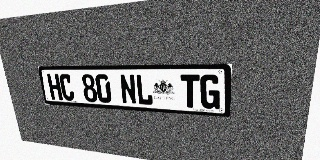0: (95, 74, 112, 103)
8: (81, 74, 98, 102)
C: (59, 74, 75, 101)
G: (200, 74, 221, 109)
H: (47, 74, 63, 100)
L: (135, 74, 153, 105)
N: (119, 74, 137, 105)
T: (180, 74, 199, 108)
